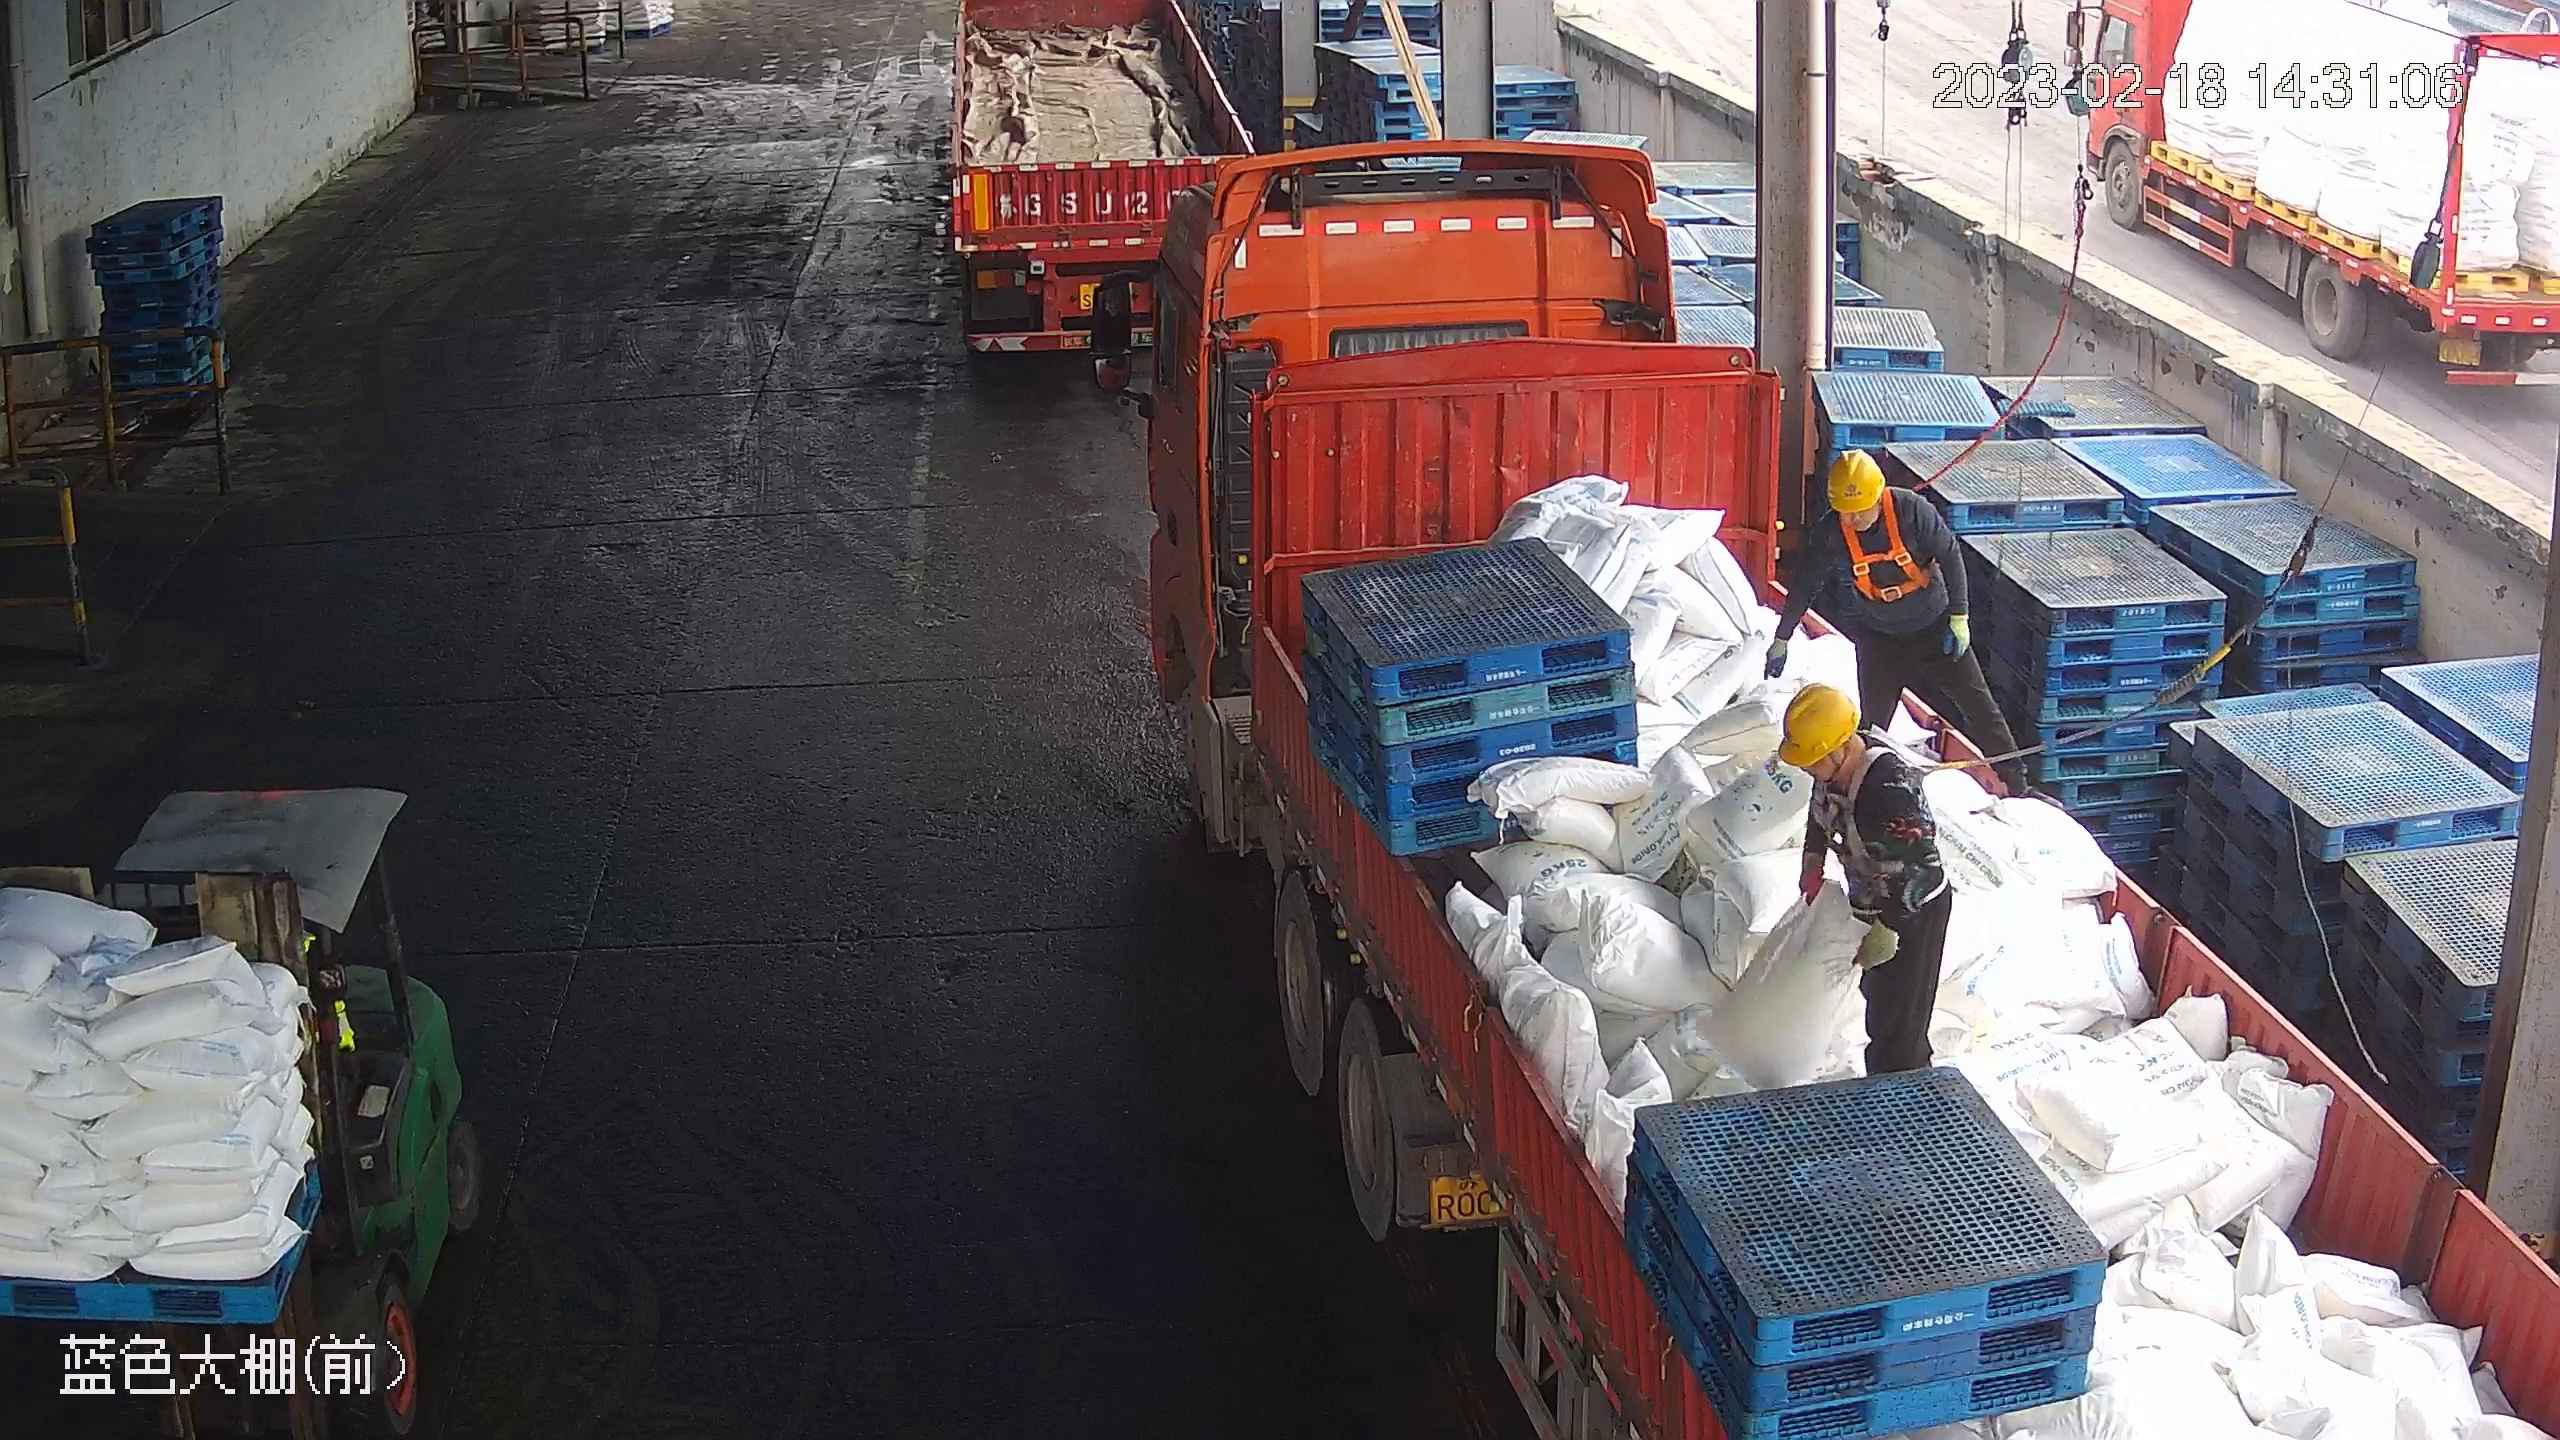belt: (1811, 732, 1938, 863), (1835, 485, 1932, 605)
head: (1776, 681, 1920, 825), (1805, 447, 1944, 558)
helmet: (1777, 681, 1856, 765), (1822, 445, 1883, 514)
people: (1756, 443, 2024, 781), (1776, 681, 1955, 1080)
truck: (1101, 136, 2532, 1440), (934, 1, 1269, 372)
